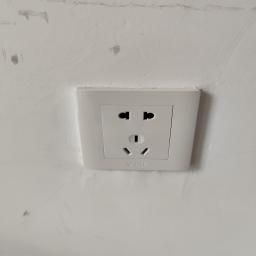outlet: (66, 79, 206, 179)
